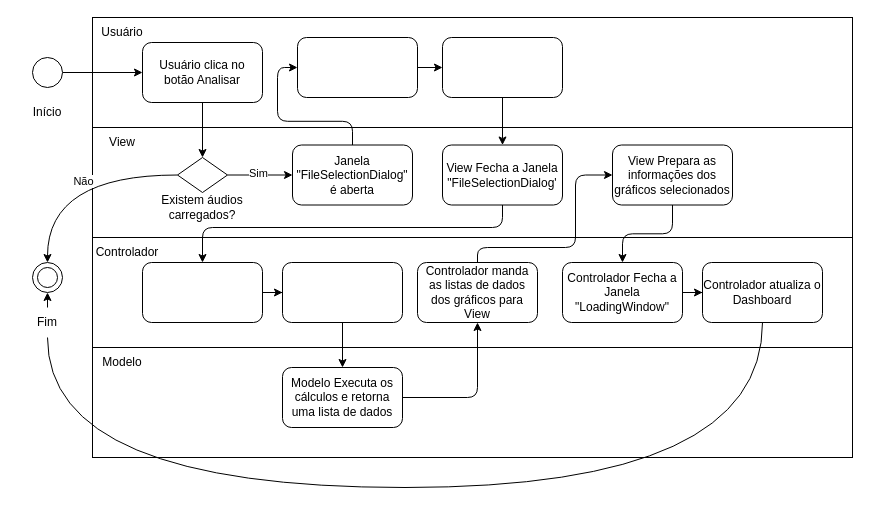
Some shapes in this 870 by 505 pixel diagram are drawn without their labels. Each missing label, with the centre of its shape:
Controlador exibi Janela "LoadingWindow': the point at 202,292
Controlador pede os dados dos gráficos à camada Modelo: the point at 342,292
Usuário clica em confirmar: the point at 502,67
Usuário seleciona os gráficos e áudios desejados: the point at 357,67
